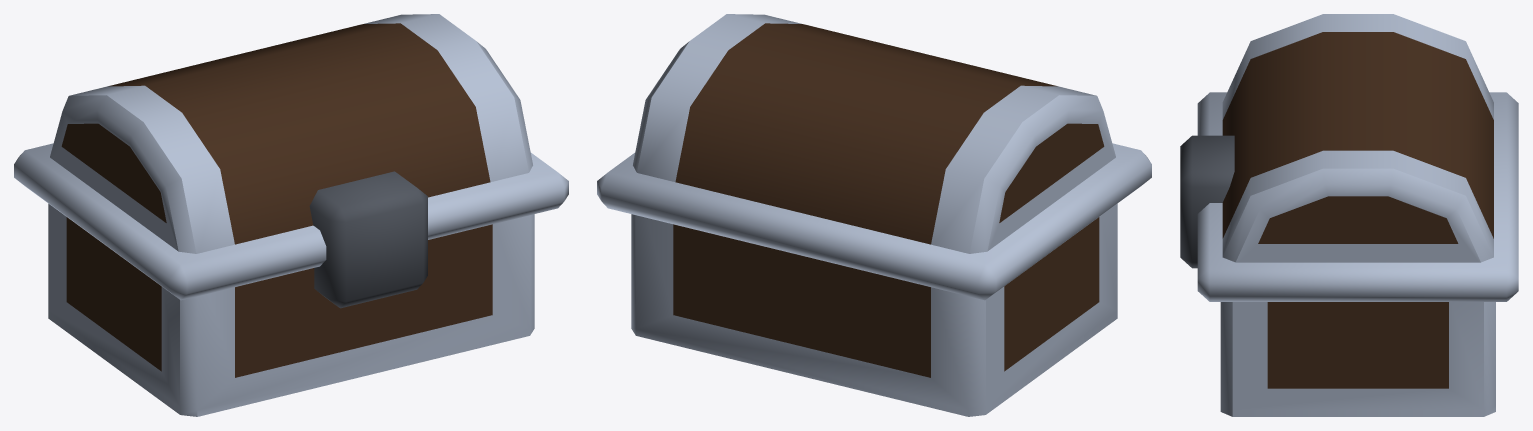
Rendered from Chest.fbx.
3 views of the same model, side by side, from view 1: azimuth 30°, elevation 25°; view 2: azimuth 150°, elevation 25°; view 3: azimuth 270°, elevation 25° (orthographic). The views are drawn at different scales.
Visible parts, largest first — view 1: Cube.1520, Cube.1522, Cube.1521; view 2: Cube.1520, Cube.1522; view 3: Cube.1520, Cube.1522, Cube.1521.
Boxes of the visible parts, x1,y1,x2,y2 form: Cube.1520: [48, 14, 534, 416]; Cube.1522: [14, 143, 568, 300]; Cube.1521: [309, 171, 427, 308]; Cube.1520: [631, 14, 1117, 416]; Cube.1522: [597, 143, 1151, 300]; Cube.1520: [1220, 14, 1495, 416]; Cube.1522: [1197, 92, 1518, 301]; Cube.1521: [1180, 135, 1234, 268].
Bounding box in the file's own units: 28.53 × 17.45 × 22.01.
